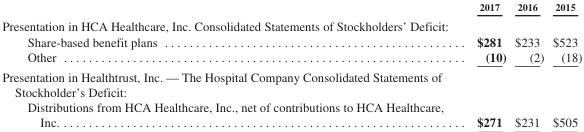table: (1, 0, 581, 129)
table column: (1, 0, 459, 129), (459, 0, 509, 129), (509, 0, 547, 129), (547, 0, 581, 129)
table column header: (1, 0, 581, 15)
table projected row header: (1, 66, 581, 99), (1, 15, 581, 33)
table row: (1, 66, 581, 99), (1, 99, 581, 129), (1, 15, 581, 33), (1, 48, 581, 66), (1, 0, 581, 15), (1, 33, 581, 48)
